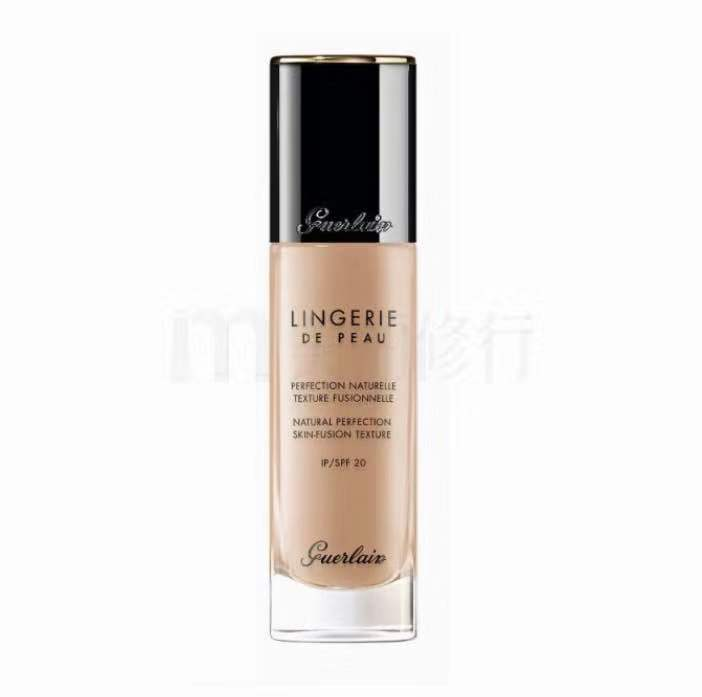cosmetic: (270, 53, 421, 639)
